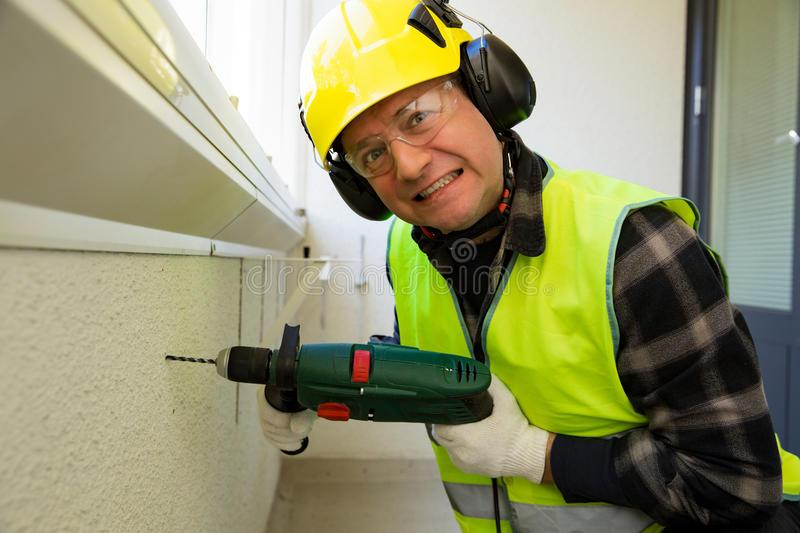helmet: (293, 1, 469, 168)
